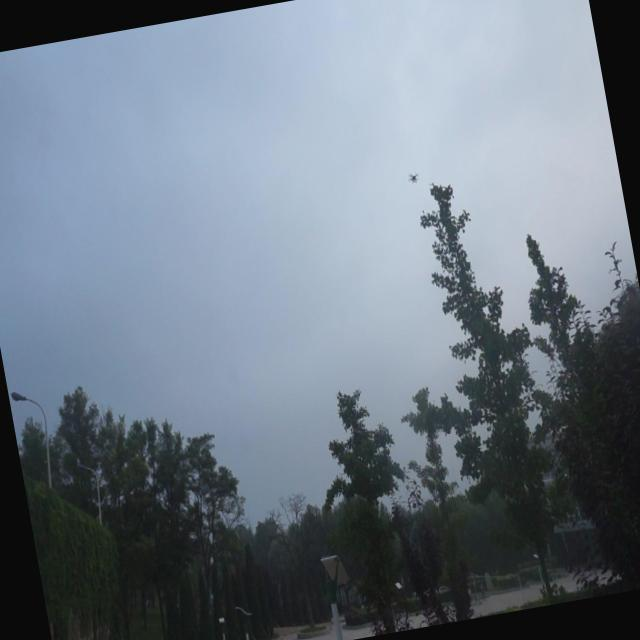drone: (404, 166, 422, 188)
